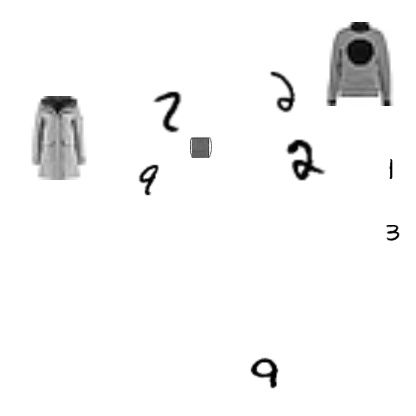1: (377, 155, 405, 183)
2: (274, 132, 330, 188), (257, 64, 313, 120), (141, 80, 197, 136)
3: (382, 221, 404, 243)
9: (127, 156, 169, 198), (245, 349, 287, 391)
Bag: (190, 136, 212, 158)
Coat: (17, 96, 101, 180)
Pullover: (318, 22, 402, 106)
